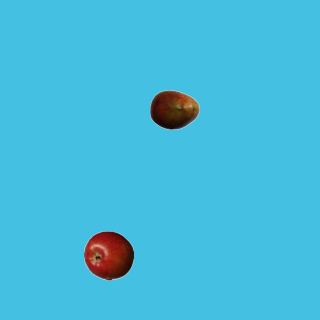Apple Braeburn: (83, 230, 133, 280)
Mango Red: (149, 84, 199, 134)
